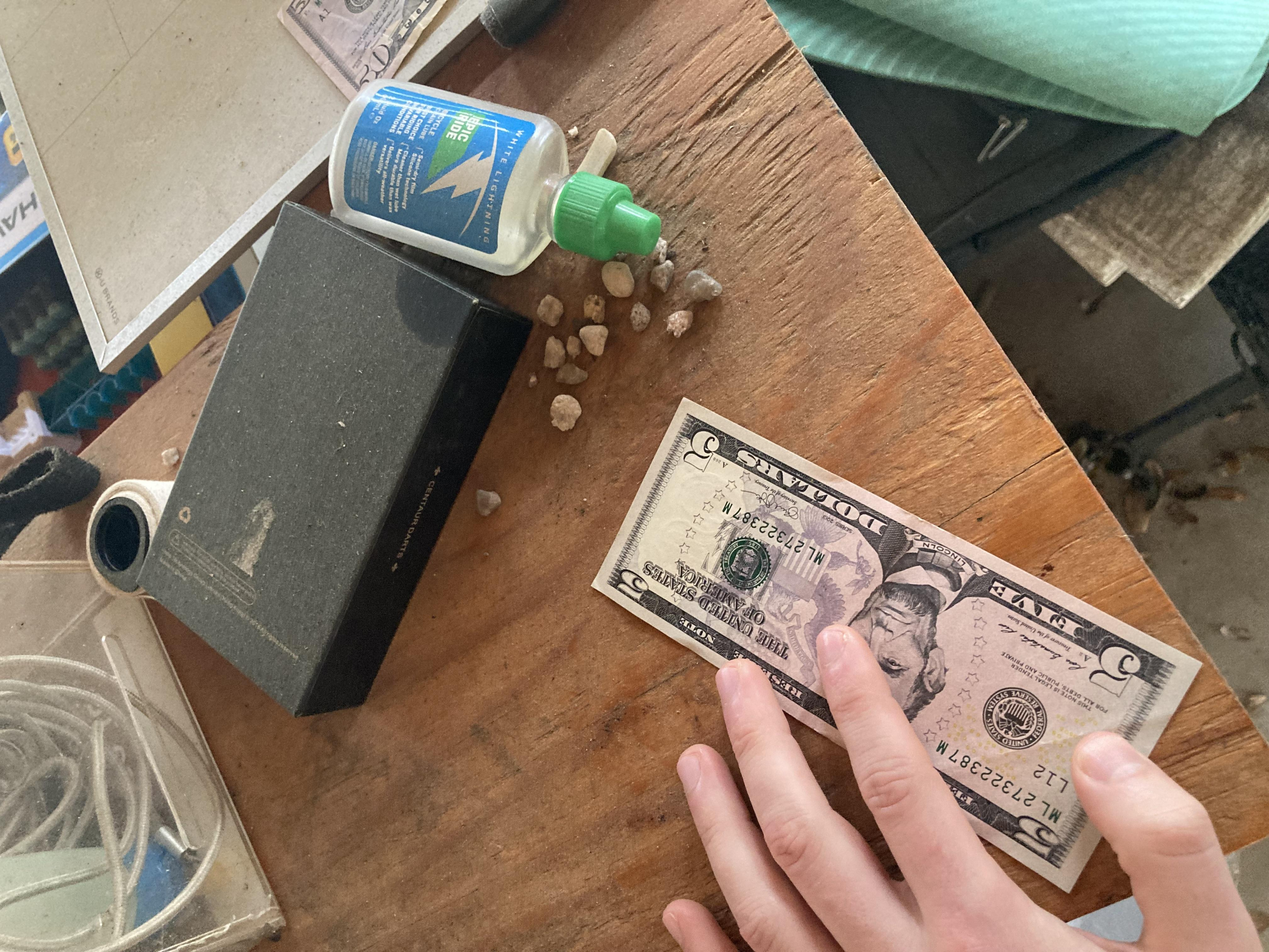five-front: (81, 443, 743, 903)
